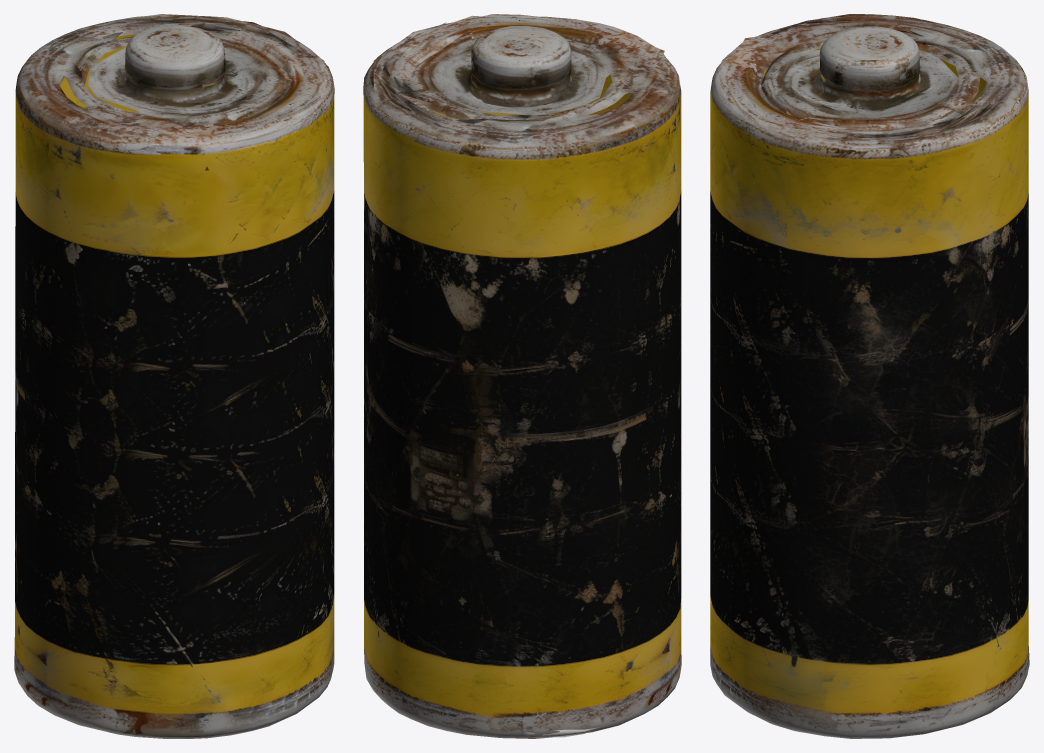
File: battery.glb
3 views of the same model, side by side, from view 1: azimuth 30°, elevation 25°; view 2: azimuth 150°, elevation 25°; view 3: azimuth 270°, elevation 25° (orthographic).
Visible parts, largest first — view 1: material; view 2: material; view 3: material.
Boxes of the visible parts, <box> form: material: <box>14,14,334,738</box>; material: <box>363,14,681,738</box>; material: <box>710,14,1029,738</box>.
Bounding box in the file's own units: 0.869 × 1.9 × 0.867.
1 material, 1 textured.
